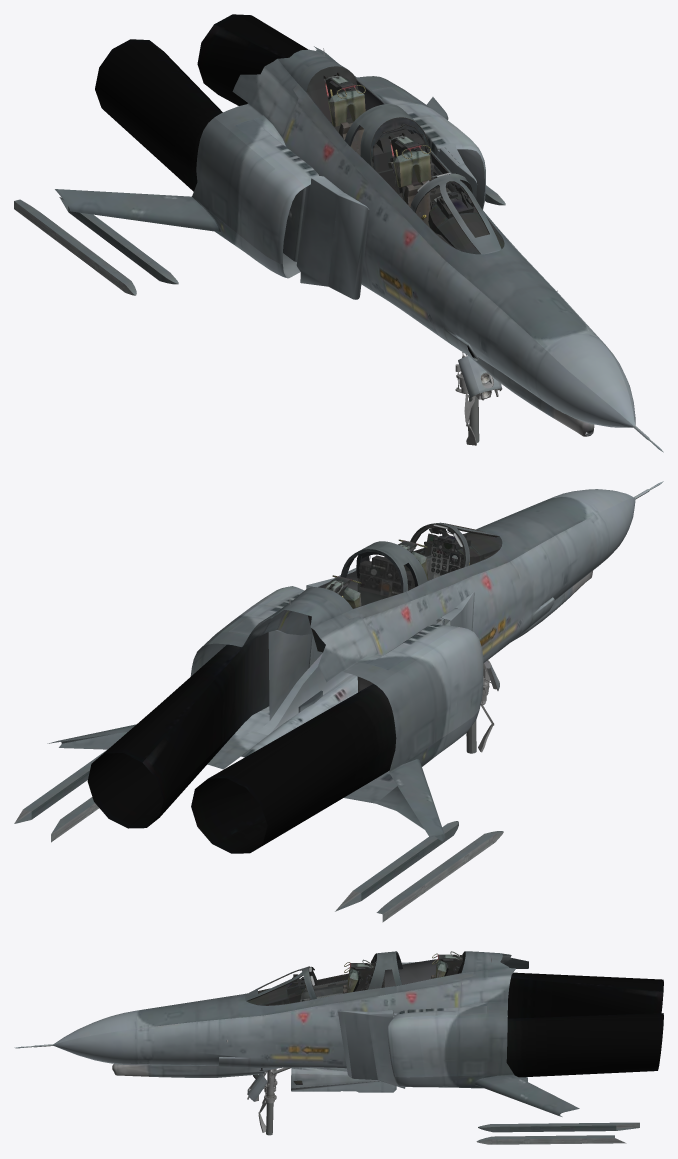
3 views of the same model, one above another, from view 1: azimuth 30°, elevation 25°; view 2: azimuth 150°, elevation 25°; view 3: azimuth 270°, elevation 25° (orthographic). The views are drawn at different scales.
Visible parts, largest first — view 1: Object_5, Object_7; view 2: Object_5, Object_7; view 3: Object_5, Object_7.
Boxes of the visible parts, left/top/right/bottom form: Object_5: left=14, top=14, right=663, bottom=452; Object_7: left=455, top=352, right=502, bottom=445; Object_5: left=14, top=481, right=663, bottom=922; Object_7: left=466, top=660, right=499, bottom=753; Object_5: left=14, top=951, right=663, bottom=1144; Object_7: left=247, top=1067, right=396, bottom=1135.
Size of the model in its own units: 4.85 by 3.3 by 10.71.
1 material, 1 textured.
